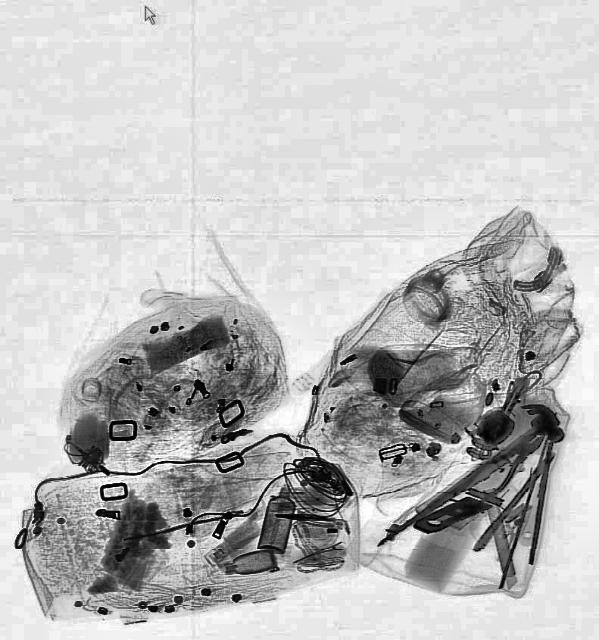Pliers: (448, 416, 554, 514)
